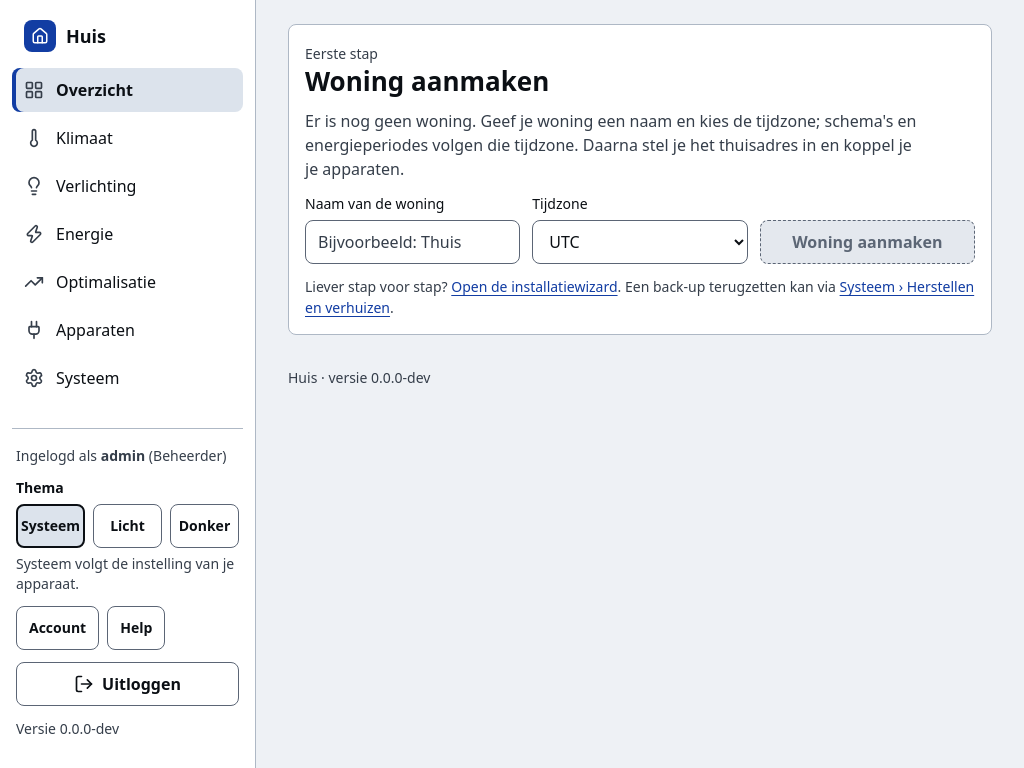
Test: no home yet (item 1) › shows an inline "Woning aanmaken" form with the browser time zone, then next steps
This screenshot has width=1024, height=768.
Expected: the heading "Woning aanmaken" is shown, [305,63,549,99]
Expected: the dropdown labelled "Tijdzone" shows "UTC", [532,220,748,264]
Type "Ons huis" into the field labelled "Naam van de woning".
click(413, 242); type("Ons huis")  # box [305,220,520,264]
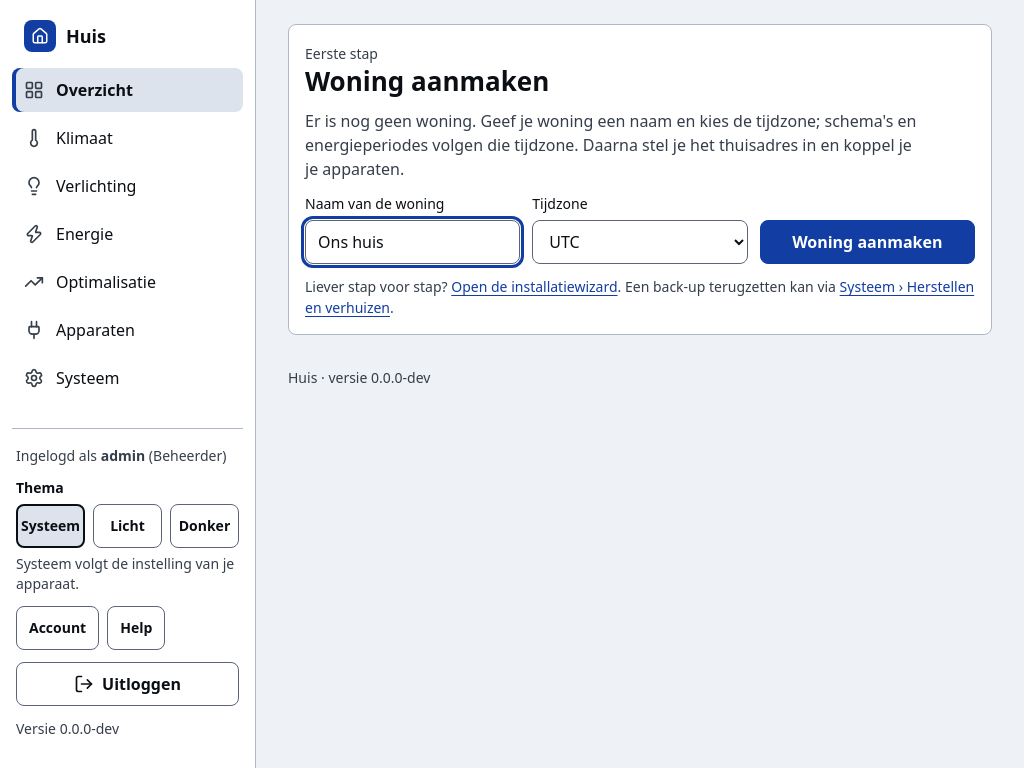
Click the button "Woning aanmaken".
click(867, 242)  # box [760,220,975,264]
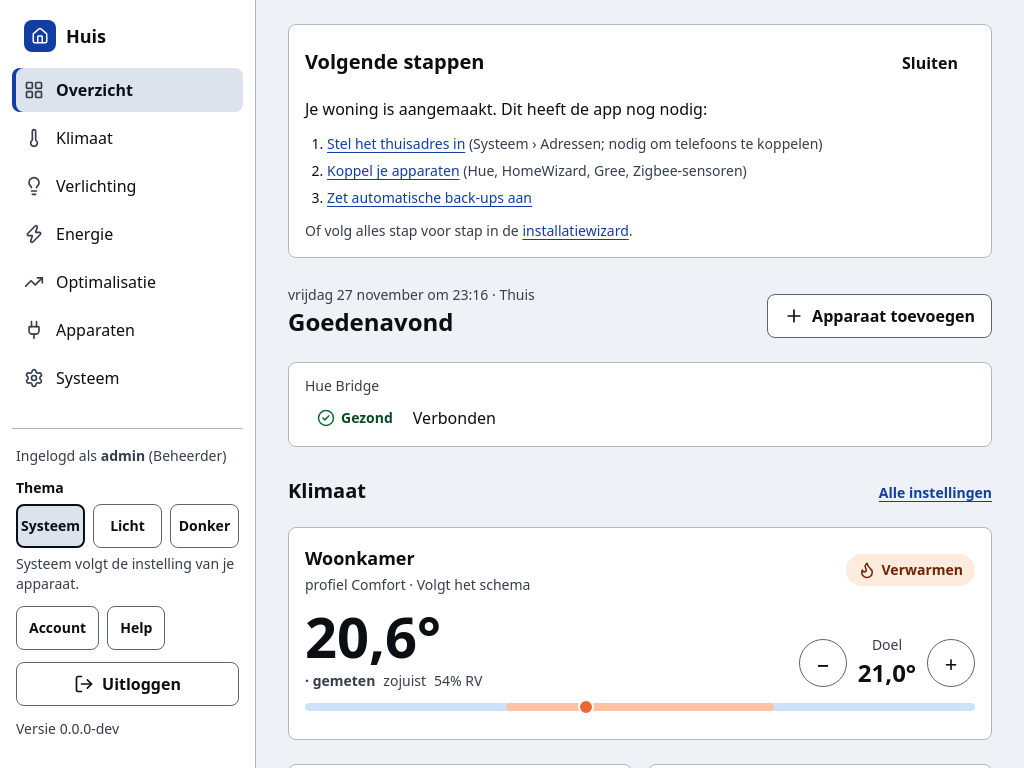
Expected: the heading "Woning aanmaken" is gone
